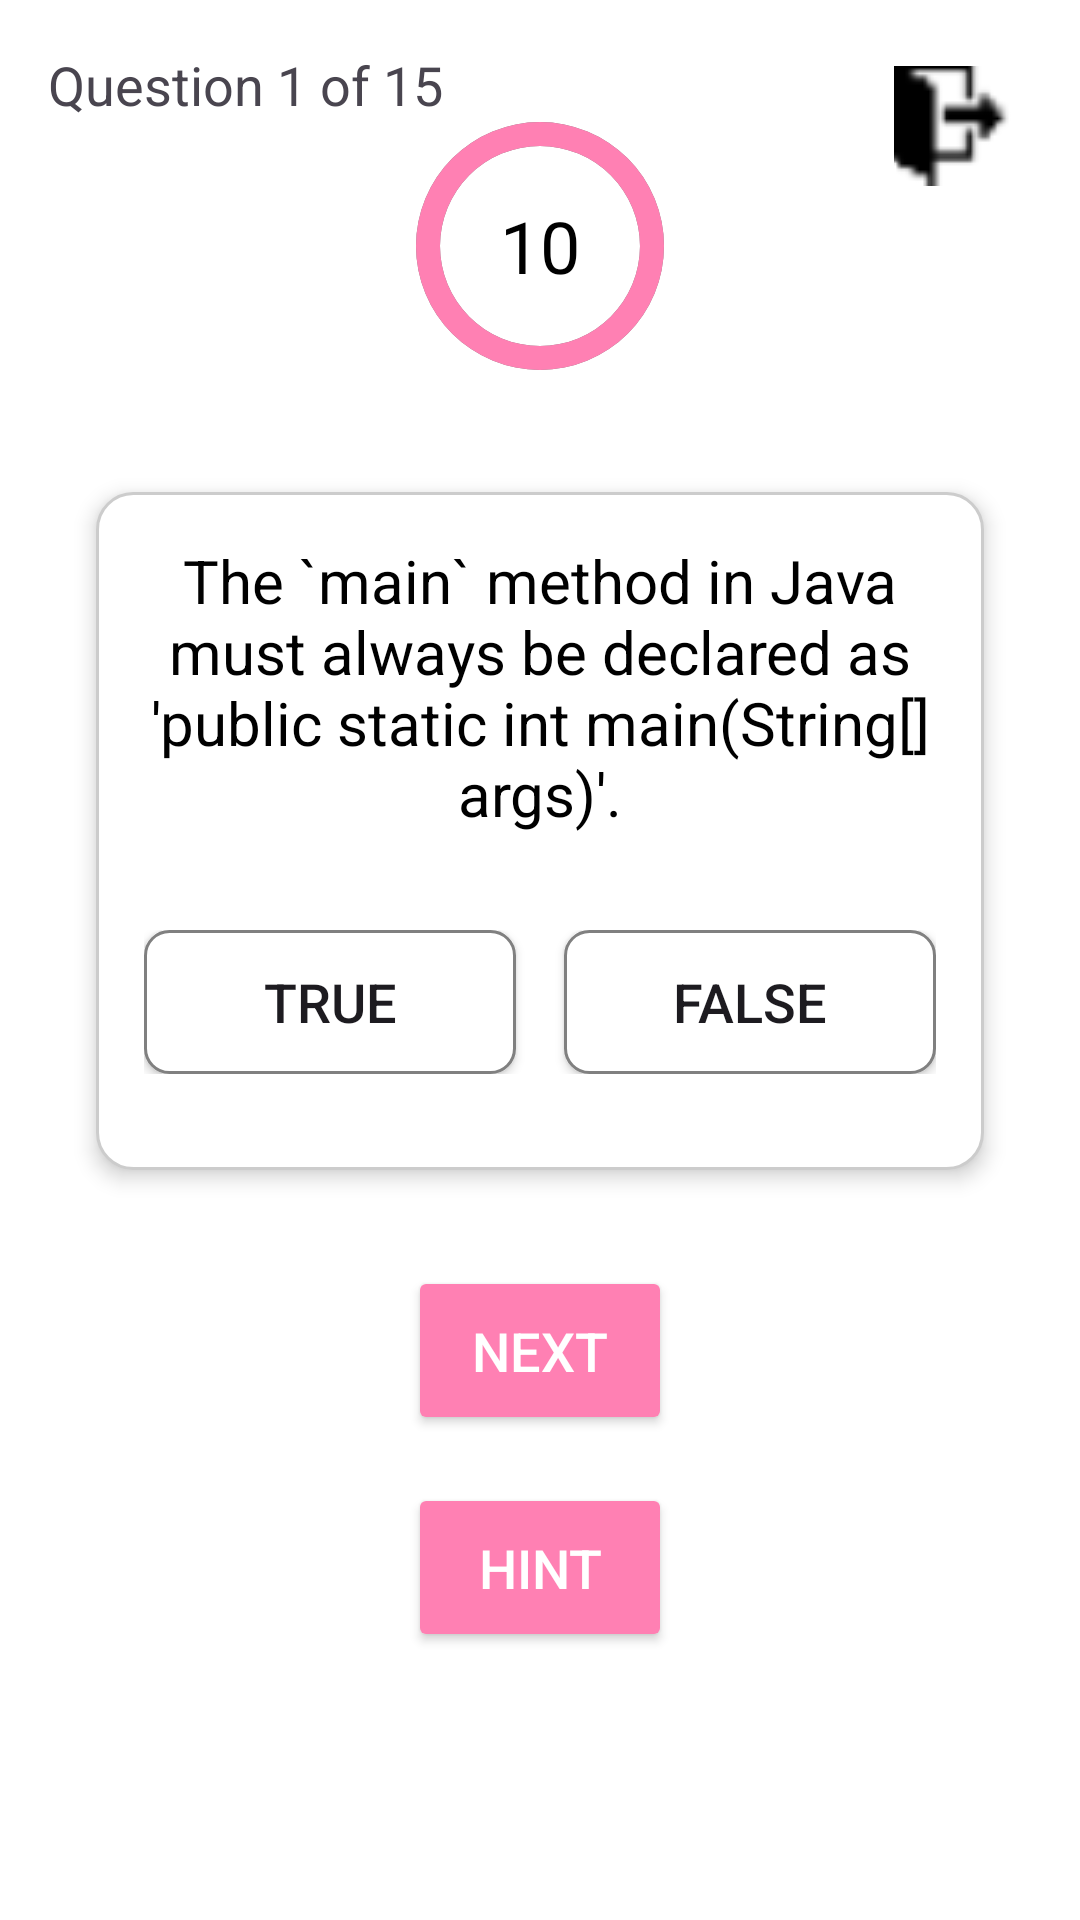

Where icons sit on this 1080 × 1920 app screen, as [x1, y1, x2, y2]:
Return to main menu: [894, 66, 1007, 186]
